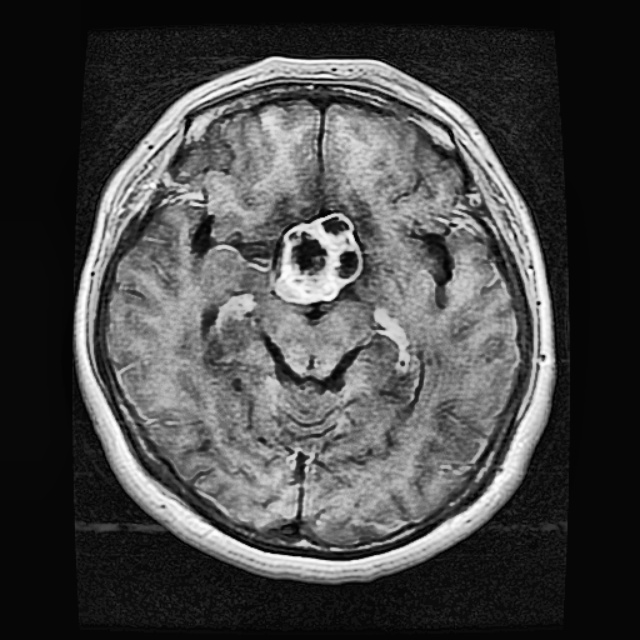Pituitary: (275, 212, 362, 304)
